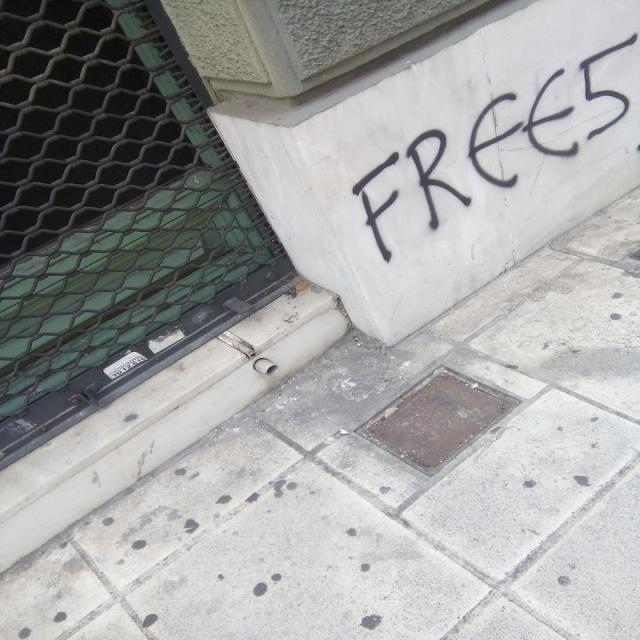nonspitting: (346, 32, 640, 265)
